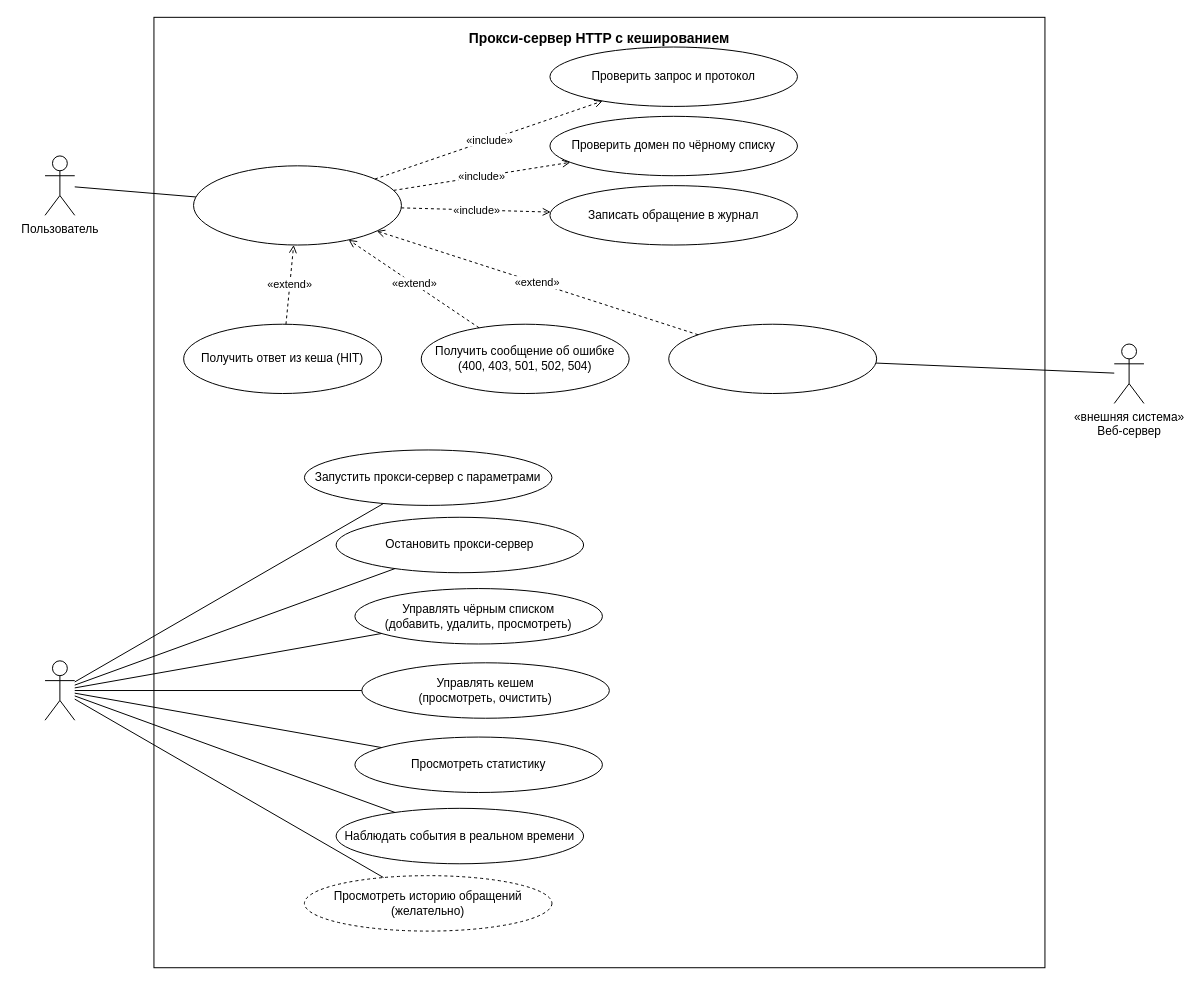
Some shapes in this 1201 by 985 pixel diagram are drawn without their labels. Here are the shapes that lost their labels. From the top down, the centre of each, then its label:
At (x=297, y=205): "Отправить HTTP-запрос через прокси".
At (x=772, y=358): "Запросить ответ у веб-сервера (MISS)".
At (x=59, y=690): "Администратор".
